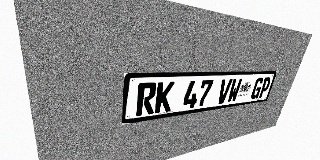4: (182, 80, 201, 109)
7: (196, 80, 214, 107)
G: (250, 77, 265, 99)
K: (154, 81, 175, 113)
P: (258, 77, 272, 98)
R: (136, 82, 157, 116)
V: (216, 79, 233, 104)
W: (226, 78, 243, 103)
